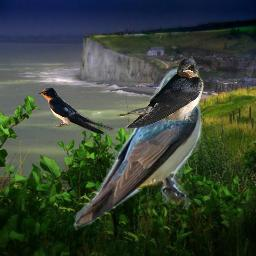Swallow: (69, 64, 207, 230), (116, 58, 204, 128), (36, 85, 115, 135)
